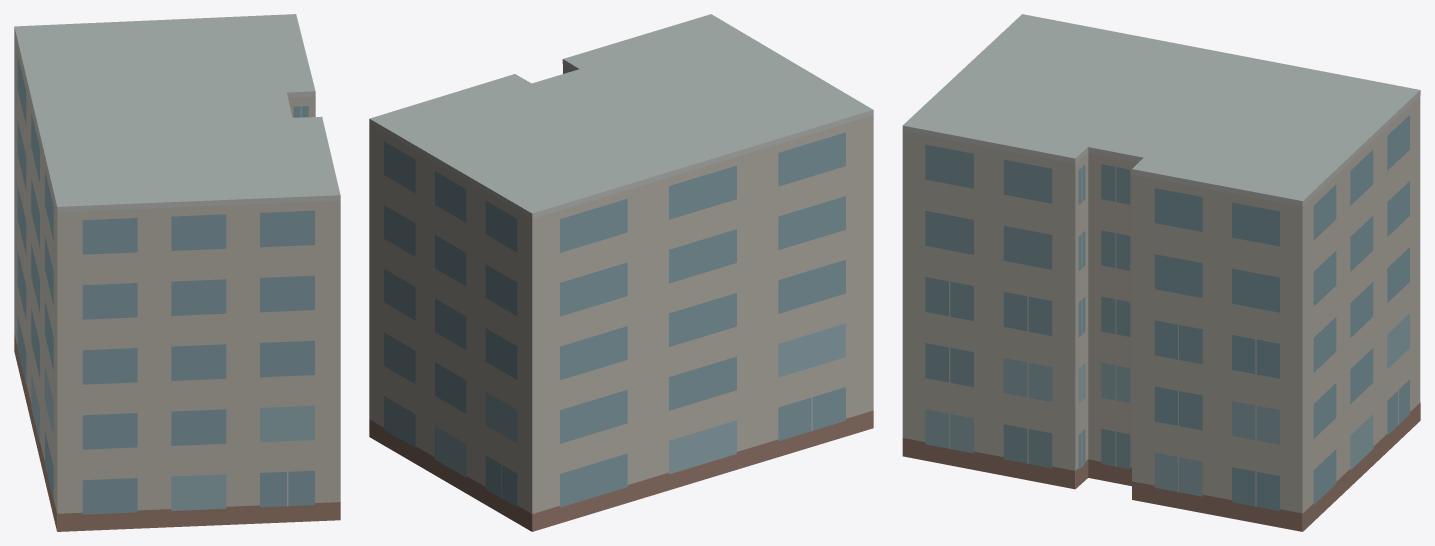
Rendered from survey-upis-33041466.glb.
3 renders of one model, left to right at view 1: azimuth 30°, elevation 25°; view 2: azimuth 150°, elevation 25°; view 3: azimuth 270°, elevation 25°, orthographic. The views are drawn at different scales.
Parts seen in each view (by area): view 1: survey-upis-33041466.tmp; view 2: survey-upis-33041466.tmp; view 3: survey-upis-33041466.tmp.
Part boxes in pixels (left/top/right/bottom): survey-upis-33041466.tmp: left=14, top=14, right=340, bottom=531; survey-upis-33041466.tmp: left=369, top=14, right=873, bottom=531; survey-upis-33041466.tmp: left=902, top=14, right=1420, bottom=531.
Bounding box in the file's own units: 17.6 × 14.5 × 20.59.
